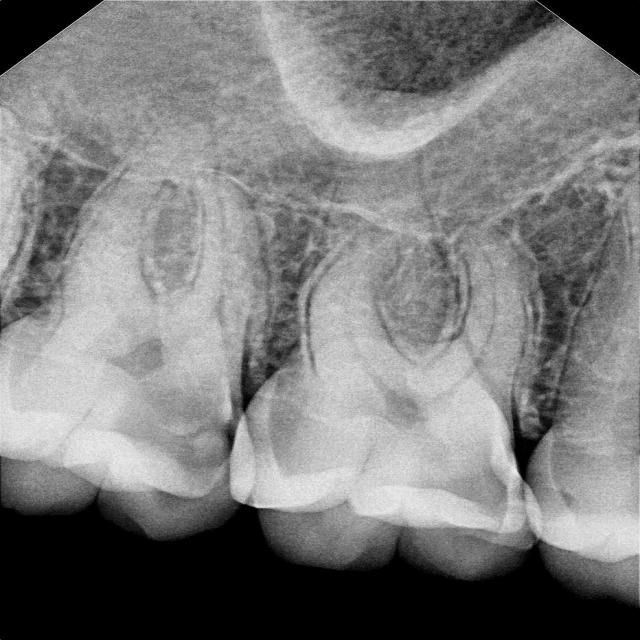Normal: (234, 192, 578, 586), (0, 141, 289, 539)
